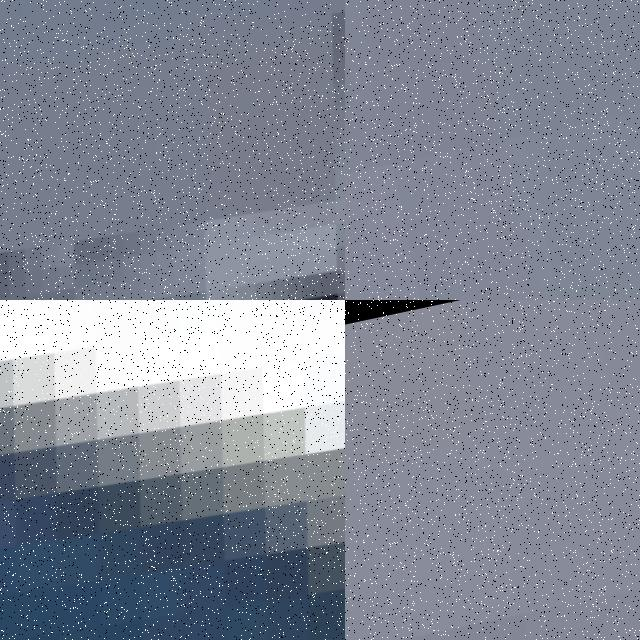0: (0, 0, 345, 300)
drone: (0, 300, 345, 640)
